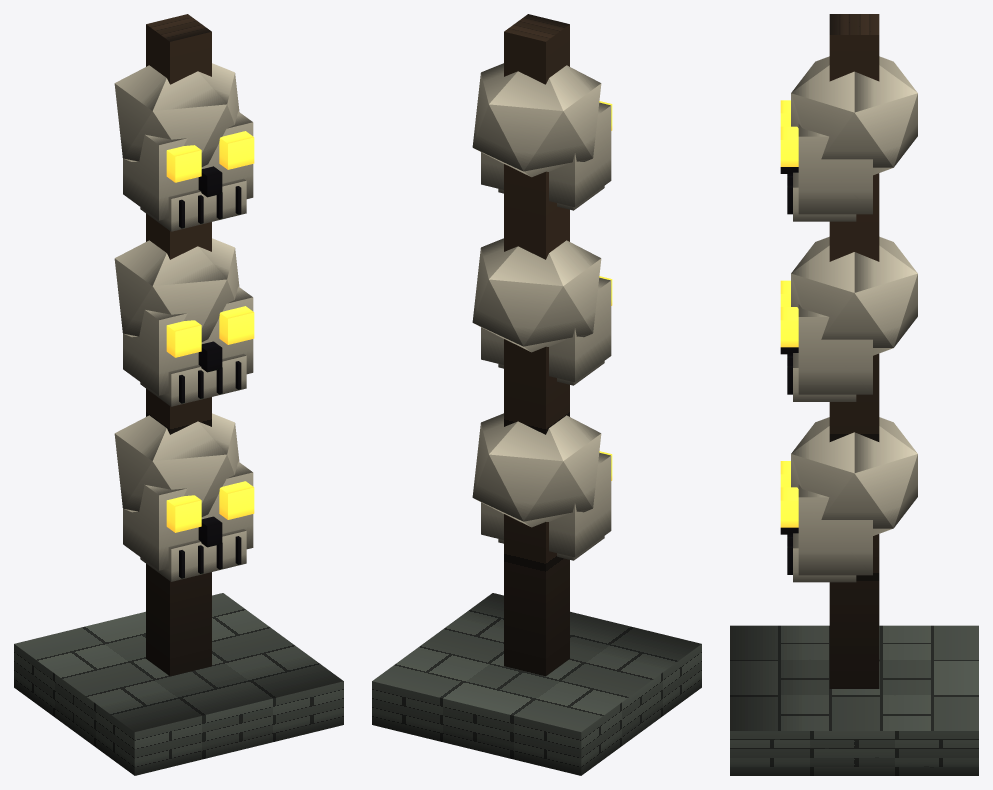
File: skull_totem.glb
The picture shows the model from 3 angles, left to right: view 1: azimuth 30°, elevation 25°; view 2: azimuth 150°, elevation 25°; view 3: azimuth 270°, elevation 25°; orthographic projection. The views are drawn at different scales.
Visible parts, largest first — view 1: skull_totem; view 2: skull_totem; view 3: skull_totem.
Part boxes in pixels (box(x1,y1,x2,y2)): skull_totem: box(14, 14, 343, 775); skull_totem: box(372, 14, 701, 775); skull_totem: box(730, 14, 978, 775).
Bounding box in the file's own units: 0.5 × 1.55 × 0.5.
Materials: 1 (1 with a texture image).
